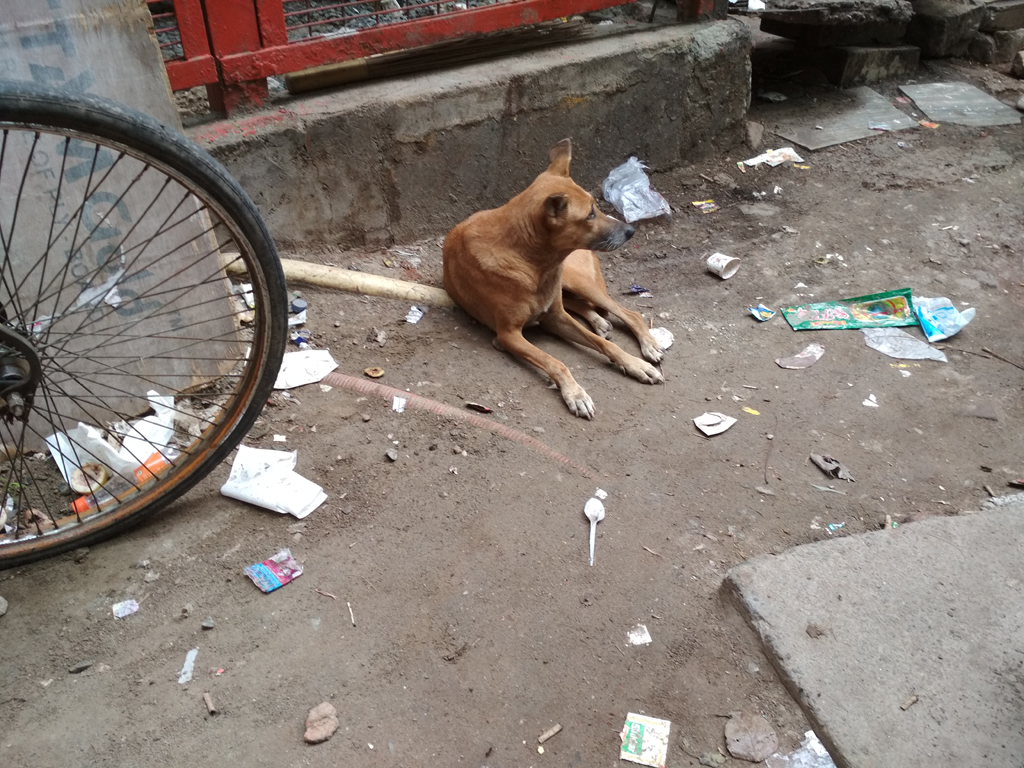dog: (442, 137, 664, 422)
